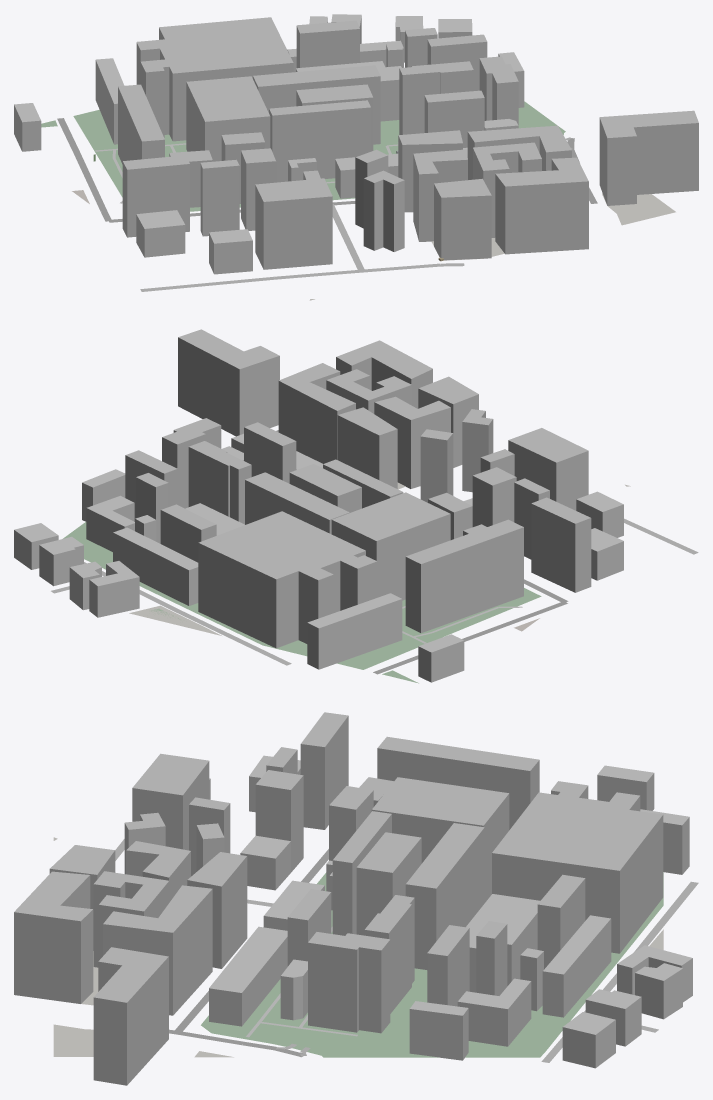
3 renders of one model, top to bottom at view 1: azimuth 30°, elevation 25°; view 2: azimuth 150°, elevation 25°; view 3: azimuth 270°, elevation 25°, orthographic. The views are drawn at different scales.
Bounding box in the file's own units: 616 × 76.68 × 562.
